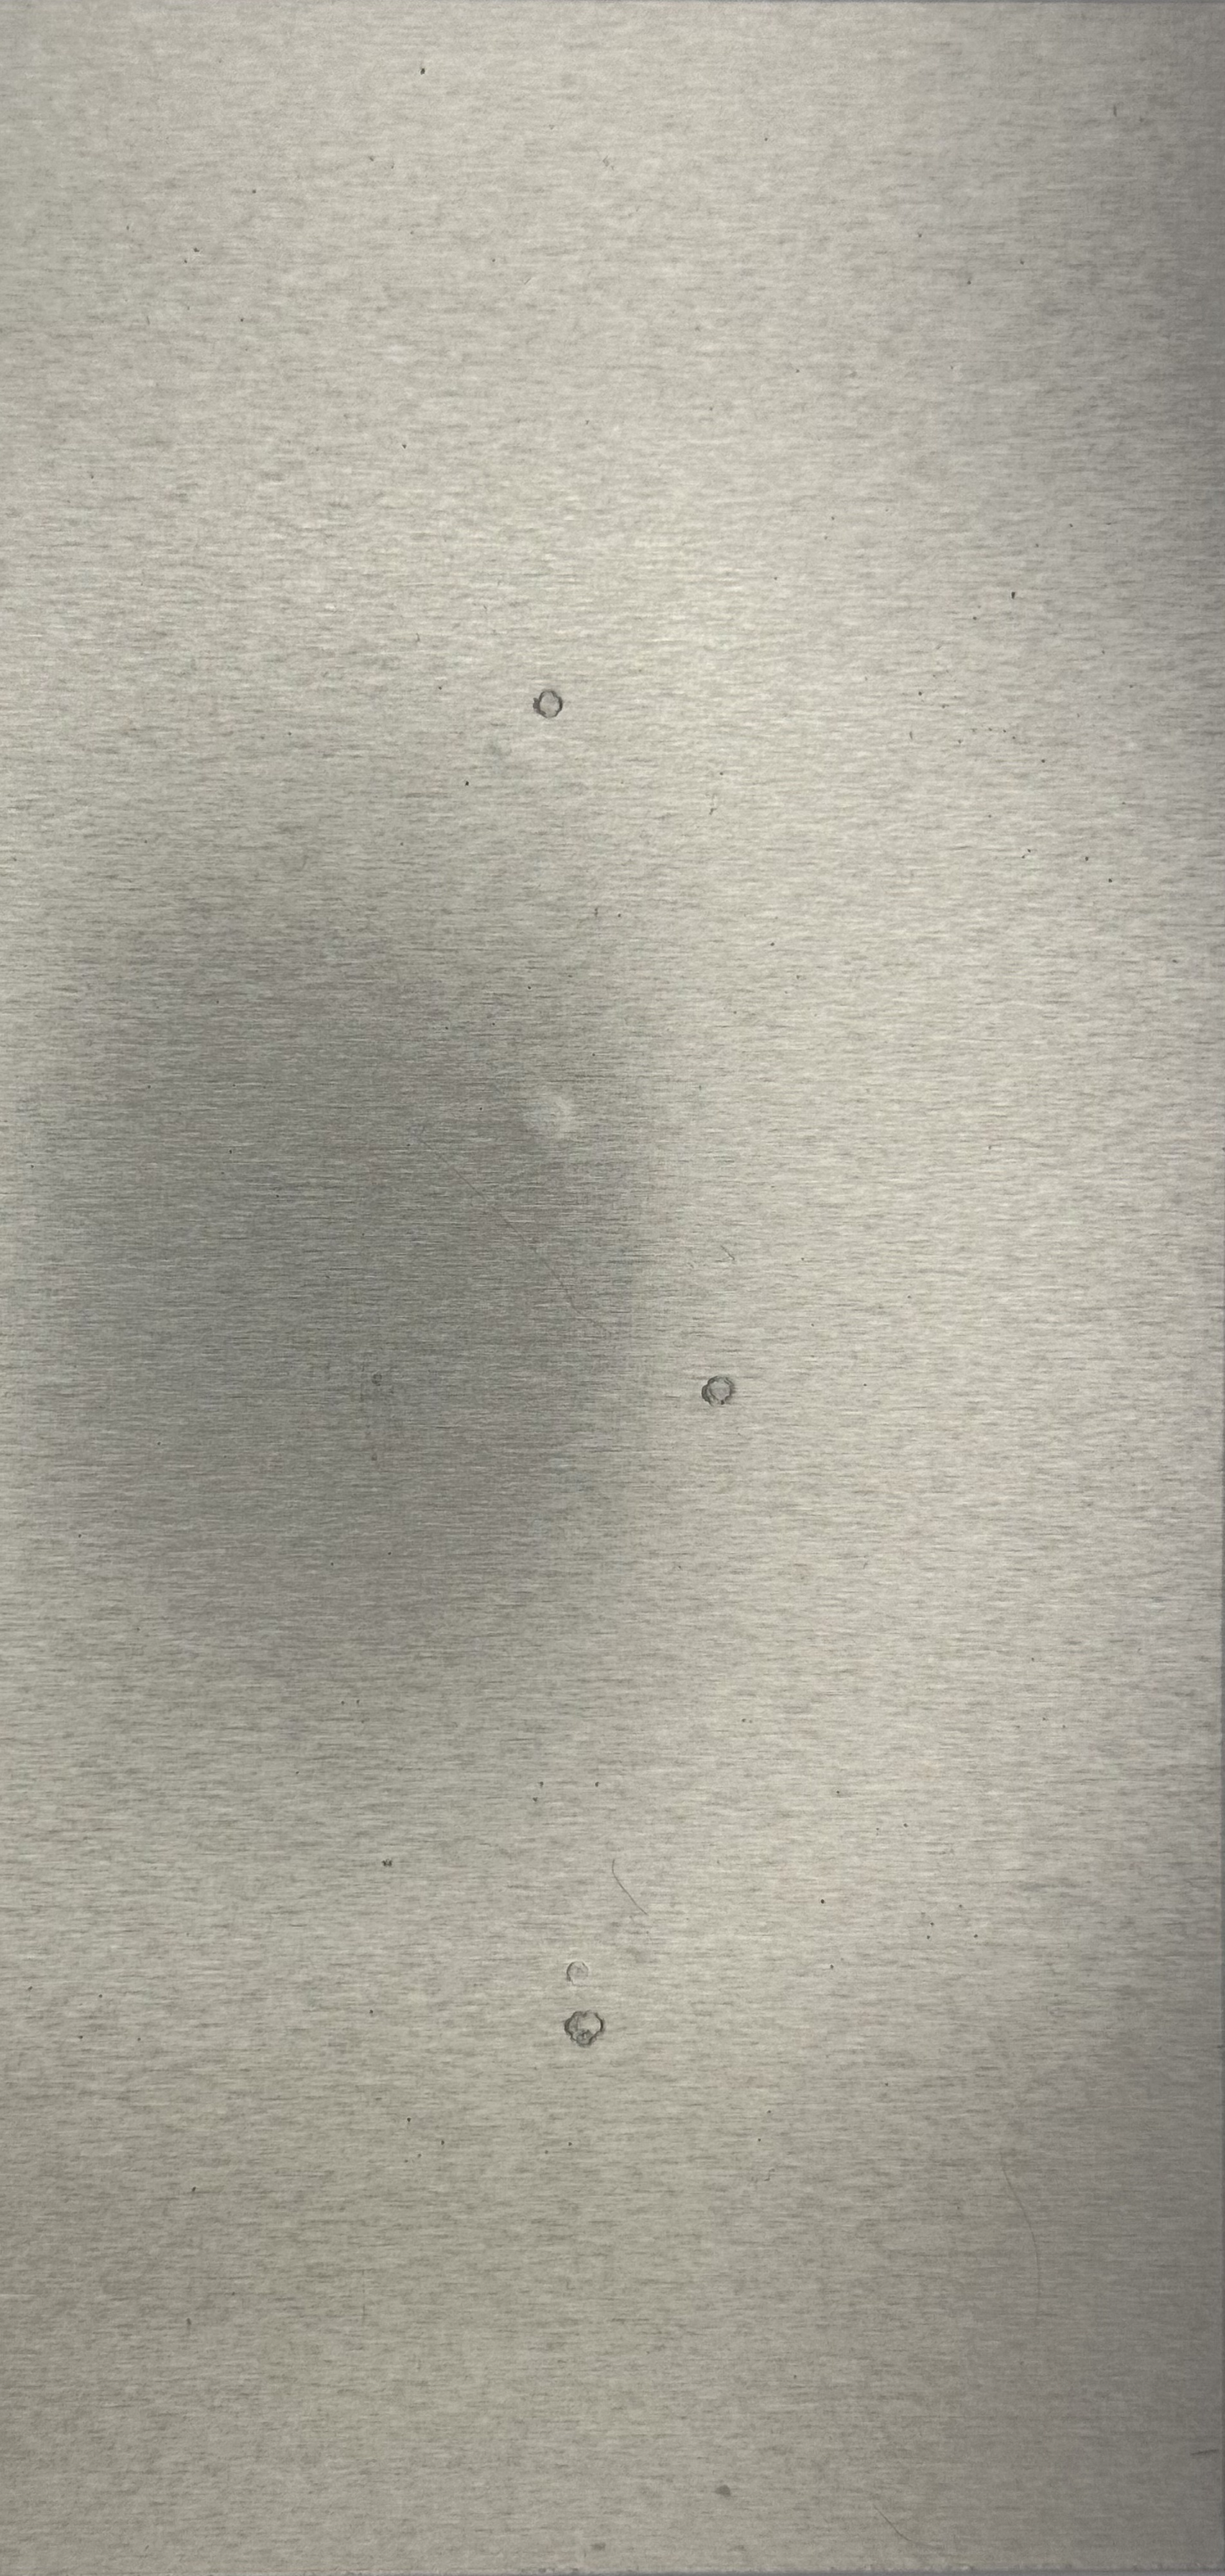Delle: (488, 1074, 604, 1171), (550, 1996, 624, 2058), (691, 1362, 750, 1426), (548, 1945, 606, 1998), (522, 674, 573, 726)
